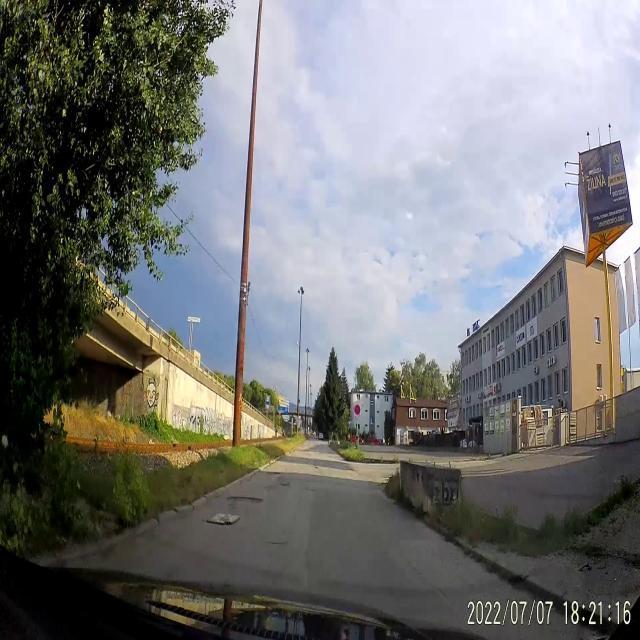Pothole: (226, 486, 265, 508), (265, 540, 290, 550), (260, 470, 282, 478), (280, 480, 290, 490), (306, 486, 315, 496)
